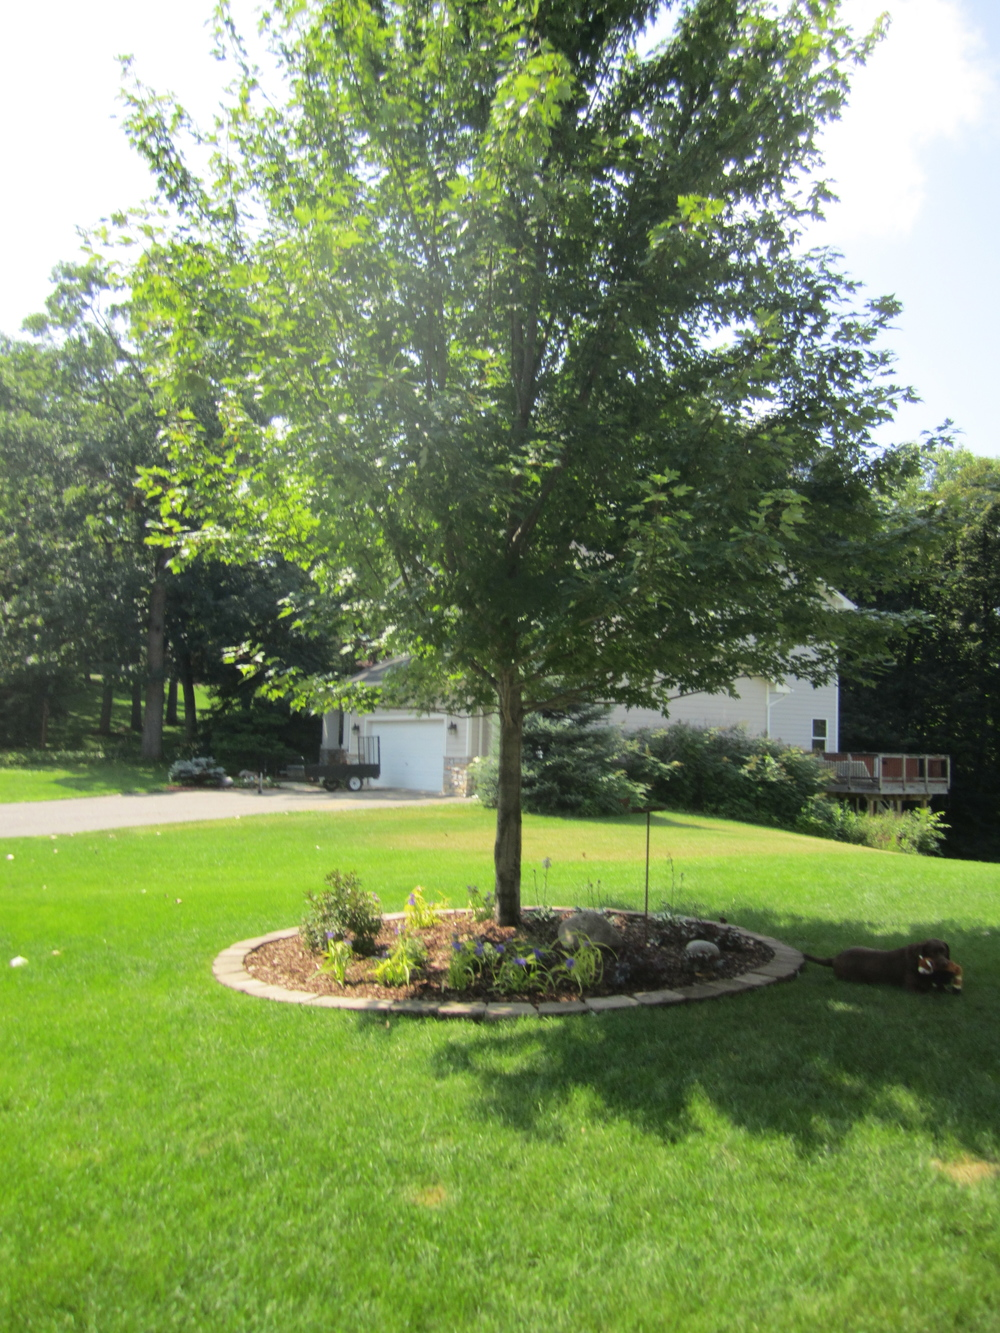tree: (117, 11, 897, 959)
